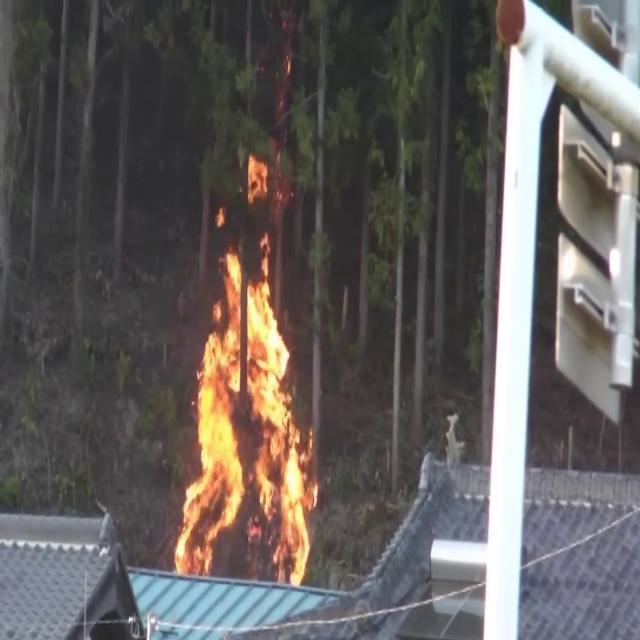Fire: (171, 220, 321, 574), (238, 148, 274, 210)
